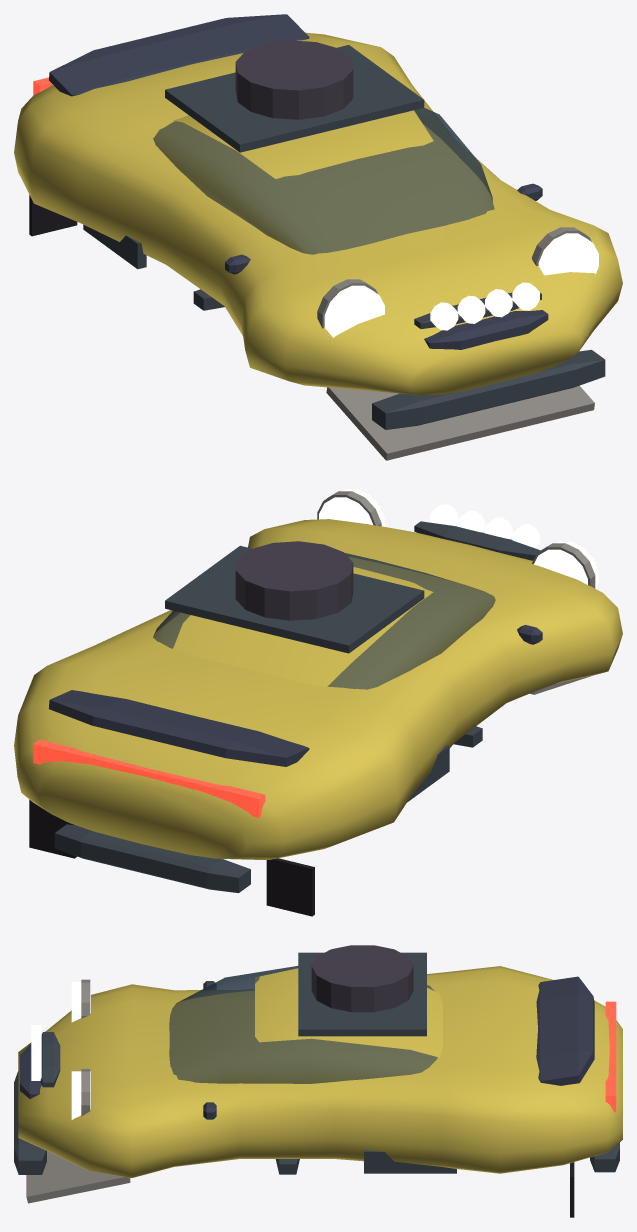
File: kestrel_body.glb
3 views of the same model, one above another, from view 1: azimuth 30°, elevation 25°; view 2: azimuth 150°, elevation 25°; view 3: azimuth 270°, elevation 25° (orthographic). The views are drawn at different scales.
Visible parts, largest first — view 1: kestrel_body; view 2: kestrel_body; view 3: kestrel_body.
Part boxes in pixels (bbox=[...]): kestrel_body: bbox=[14, 14, 622, 460]; kestrel_body: bbox=[14, 489, 622, 916]; kestrel_body: bbox=[14, 945, 622, 1217].
Bounding box in the file's own units: 2.43 × 1.43 × 4.07.
